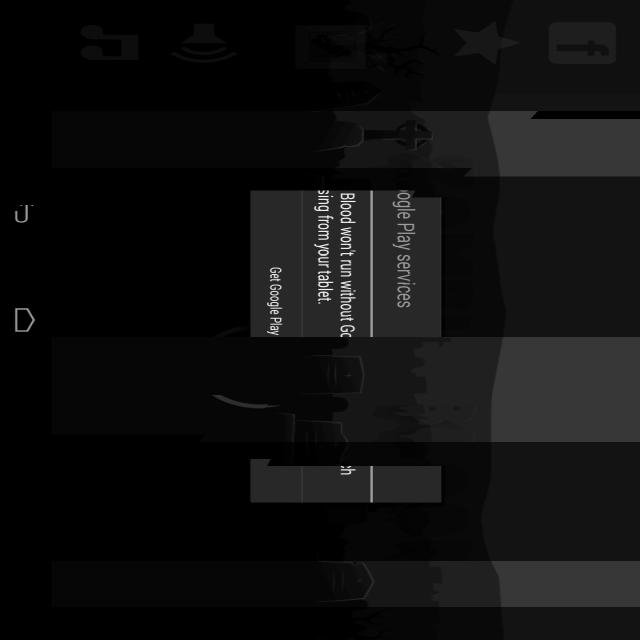TextView: (306, 188, 361, 336), (385, 187, 430, 313), (254, 263, 288, 337)
